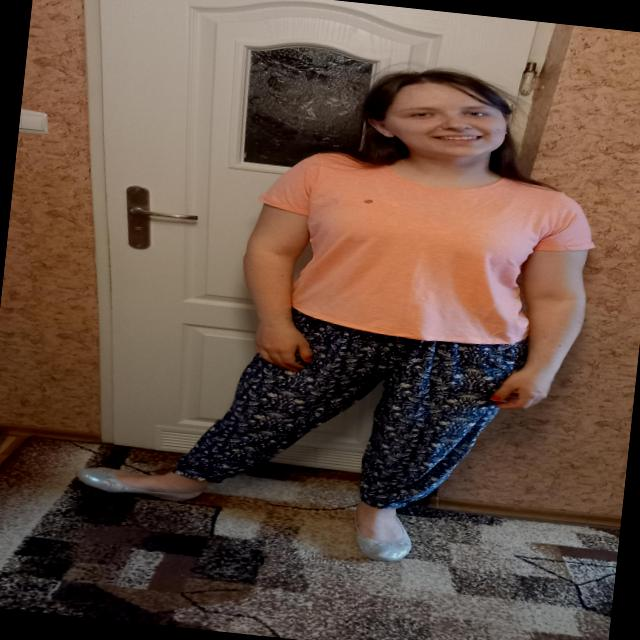Tshirt: (245, 146, 602, 358)
pants: (168, 298, 528, 523)
